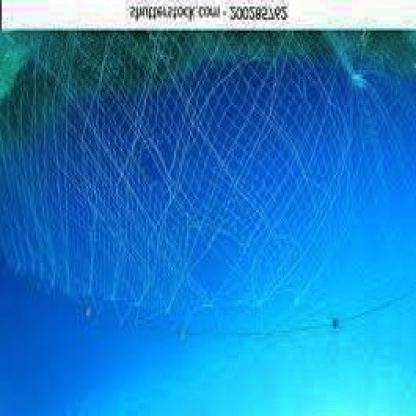net: (6, 33, 391, 313)
